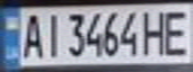3: (63, 9, 84, 57)
4: (118, 8, 142, 57), (84, 9, 106, 57)
6: (103, 8, 124, 57)
A: (18, 10, 45, 60)
E: (160, 6, 193, 56)
H: (139, 7, 172, 56)
I: (39, 9, 63, 60)
